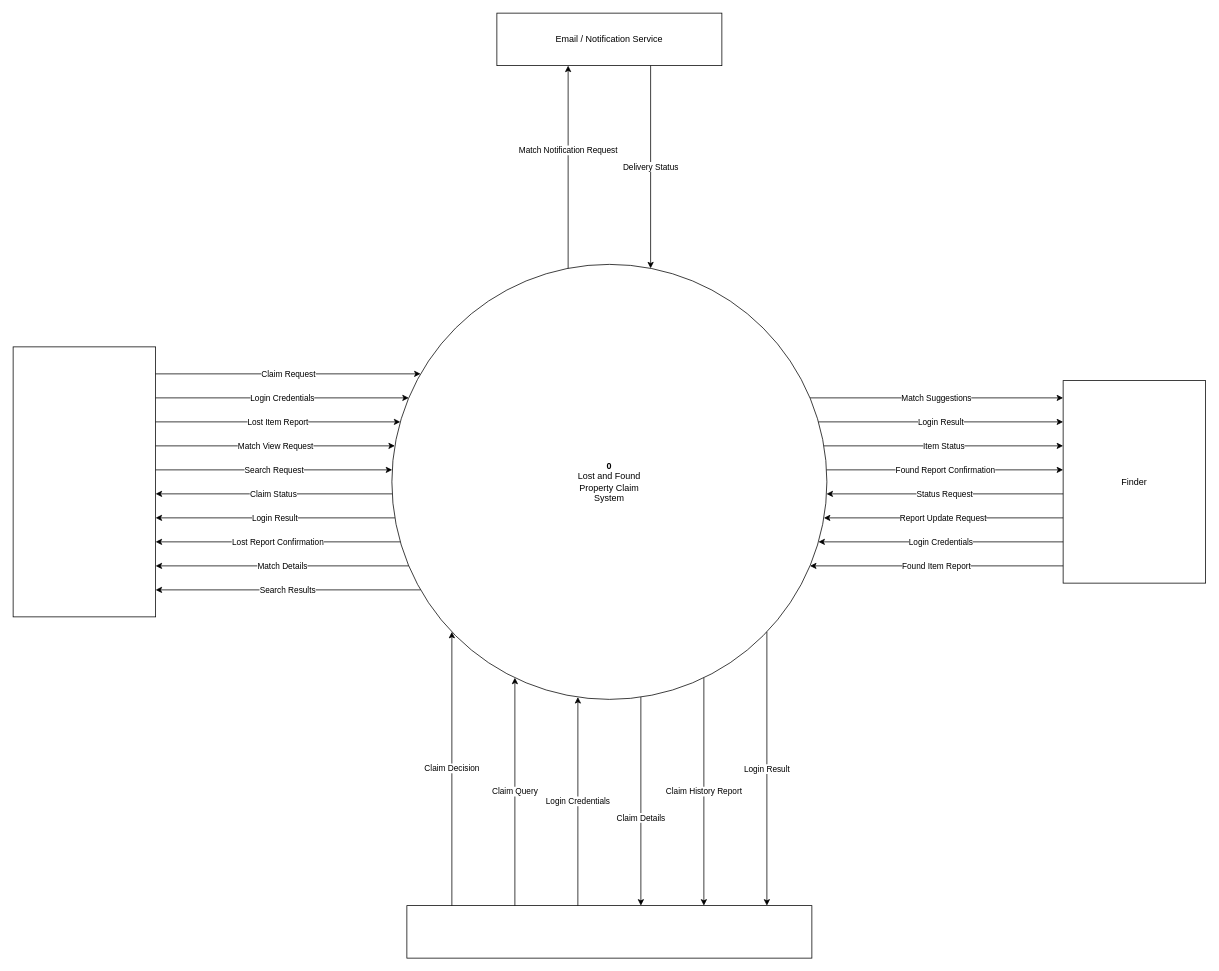
The diagram is 1219 pixels wide and 971 high, and some of its shapes have lost their labels. Each missing label, with the centre of its shape:
"Campus Security Officer" goes at (x=609, y=931).
"Item Owner" goes at (x=84, y=481).
